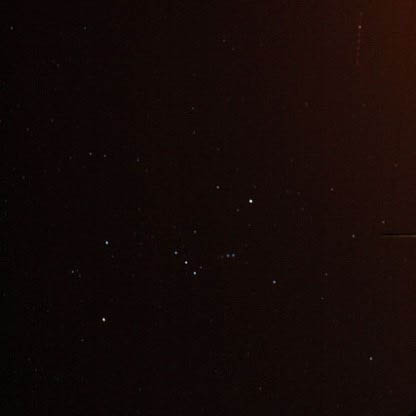Orion: (263, 271, 286, 290), (91, 314, 113, 331), (97, 237, 113, 254), (186, 269, 201, 284), (170, 241, 183, 258), (240, 194, 256, 207), (177, 258, 190, 269)
